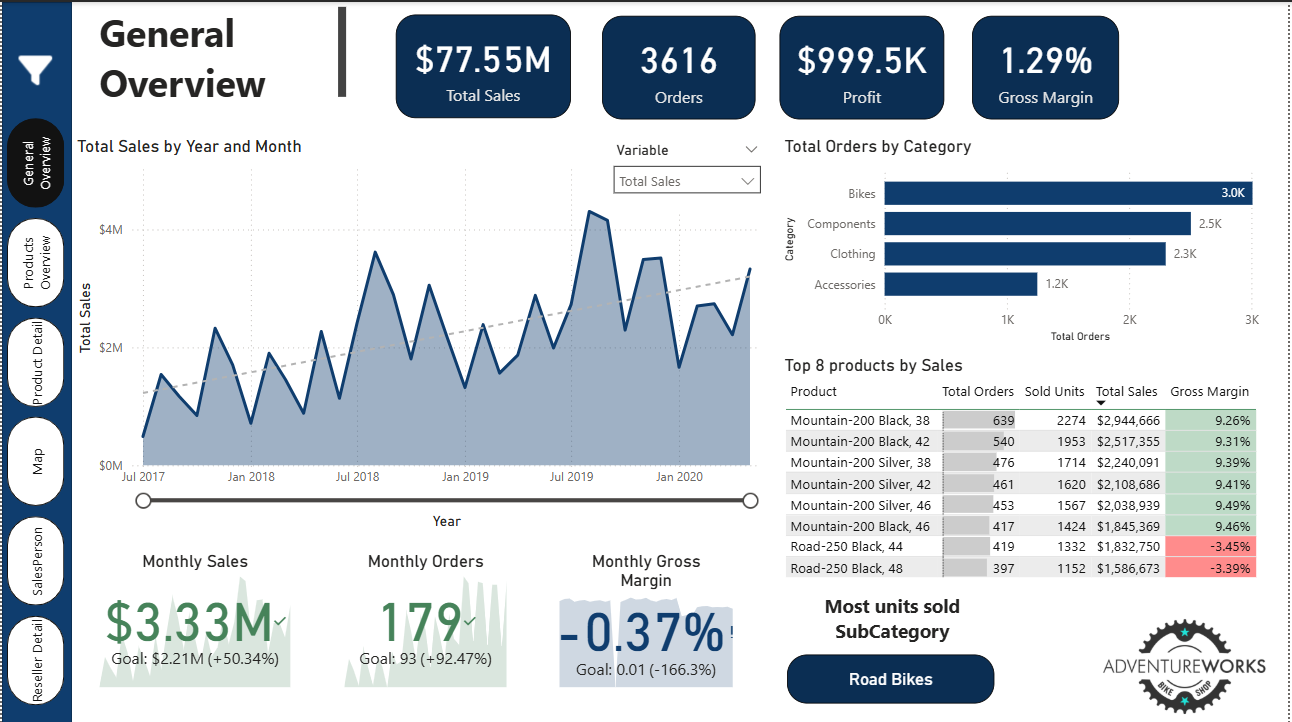

Layout of this report page (visuals, bound fields, positions):
{"tool":"powerbi","page":{"name":"General Overview","canvas":[1280,720],"ordinal":0},"visuals":[{"type":"card","fields":{"Values":["Sales.Total Gross Margin"]},"box":[774.2,13.1,164.2,103.2],"z":0},{"type":"card","fields":{"Values":["Sales.Total Sales"]},"box":[392.3,11.8,174.2,103.2],"z":1000},{"type":"lineChart","fields":{"Y":["Sales.Total Sales"],"Category":["Sales.Year Month.Variation.Date Hierarchy.Year","Sales.Year Month.Variation.Date Hierarchy.Month"]},"box":[70,133.1,703.9,395.2],"z":2000},{"type":"kpi","title":"Monthly Sales","fields":{"TrendLine":["Sales.Start of Month"],"Indicator":["Sales.Total Sales"],"Goal":["Measure Table.Previous Month Sales"]},"box":[91.9,546.1,200.3,141.3],"z":3000},{"type":"card","fields":{"Values":["Sales.Distinct Sales"]},"box":[597.5,13.1,153,103.2],"z":5000},{"type":"textbox","box":[91.9,0,255.2,104.3],"z":7000},{"type":"image","title":"AW Logo","box":[1073.1,605.1,207.2,113.9],"z":9000},{"type":"card","fields":{"Values":["Measure Table.Return Rate"]},"box":[965.7,13.1,146.8,103.2],"z":10000},{"type":"shape","box":[0,0,69.7,720.3],"z":11000},{"type":"actionButton","box":[12.1,46.8,45,41.6],"z":13000},{"type":"barChart","fields":{"Y":["Sales.Distinct Sales"],"Category":["Product.Category","Product.Subcategory"]},"box":[773.9,133.1,506.3,211.3],"z":14000},{"type":"tableEx","title":"Top 8 products by Sales","fields":{"Values":["Product.Product","Sales.Distinct Sales","Measure Table.Sold Units","Sales.Total Sales","Measure Table.Gross Margin"]},"box":[773.9,351.3,506.3,231.9],"z":15000},{"type":"kpi","title":"Monthly Orders","fields":{"Indicator":["Sales.Distinct Sales"],"TrendLine":["Sales.Start of Month"],"Goal":["Measure Table.Previous Month Orders"]},"box":[336.2,546.1,171.5,141.3],"z":16000},{"type":"kpi","title":"Monthly Gross Margin","fields":{"TrendLine":["Sales.Start of Month"],"Goal":["Measure Table.Previous Month Gross Margin"],"Indicator":["Measure Table.Gross Margin"]},"box":[550.3,546.1,182.5,141.3],"z":17000},{"type":"card","fields":{"Values":["Min(Product.Subcategory)"]},"box":[780.7,649.8,206.7,49.1],"z":18000},{"type":"textbox","box":[795.5,582.9,179.9,66.9],"z":19000},{"type":"slicer","fields":{"Values":["Variable.Variable"]},"box":[597.8,133.8,166.5,75.8],"z":21000},{"type":"pageNavigator","box":[4.6,116.2,57.3,585.8],"z":22500}]}

Visuals, with their boxes in screenshot pixels (x1, y1, x2, y2), scaled from the page's 1280x720 canvas onto the 1292x722 screenshot:
card - Sales.Total Gross Margin: (x1=781, y1=13, x2=947, y2=117)
card - Sales.Total Sales: (x1=396, y1=12, x2=572, y2=115)
lineChart - Sales.Total Sales x Sales.Year Month.Variation.Date Hierarchy.Year: (x1=71, y1=133, x2=781, y2=530)
"Monthly Sales" kpi: (x1=93, y1=548, x2=295, y2=689)
card - Sales.Distinct Sales: (x1=603, y1=13, x2=758, y2=117)
textbox: (x1=93, y1=0, x2=350, y2=105)
"AW Logo" image: (x1=1083, y1=607, x2=1291, y2=721)
card - Measure Table.Return Rate: (x1=975, y1=13, x2=1123, y2=117)
shape: (x1=0, y1=0, x2=70, y2=721)
actionButton: (x1=12, y1=47, x2=58, y2=89)
barChart - Sales.Distinct Sales x Product.Category: (x1=781, y1=133, x2=1291, y2=345)
"Top 8 products by Sales" tableEx: (x1=781, y1=352, x2=1291, y2=585)
"Monthly Orders" kpi: (x1=339, y1=548, x2=512, y2=689)
"Monthly Gross Margin" kpi: (x1=555, y1=548, x2=740, y2=689)
card - Min(Product.Subcategory): (x1=788, y1=652, x2=997, y2=701)
textbox: (x1=803, y1=585, x2=985, y2=652)
slicer - Variable.Variable: (x1=603, y1=134, x2=771, y2=210)
pageNavigator: (x1=5, y1=117, x2=62, y2=704)
